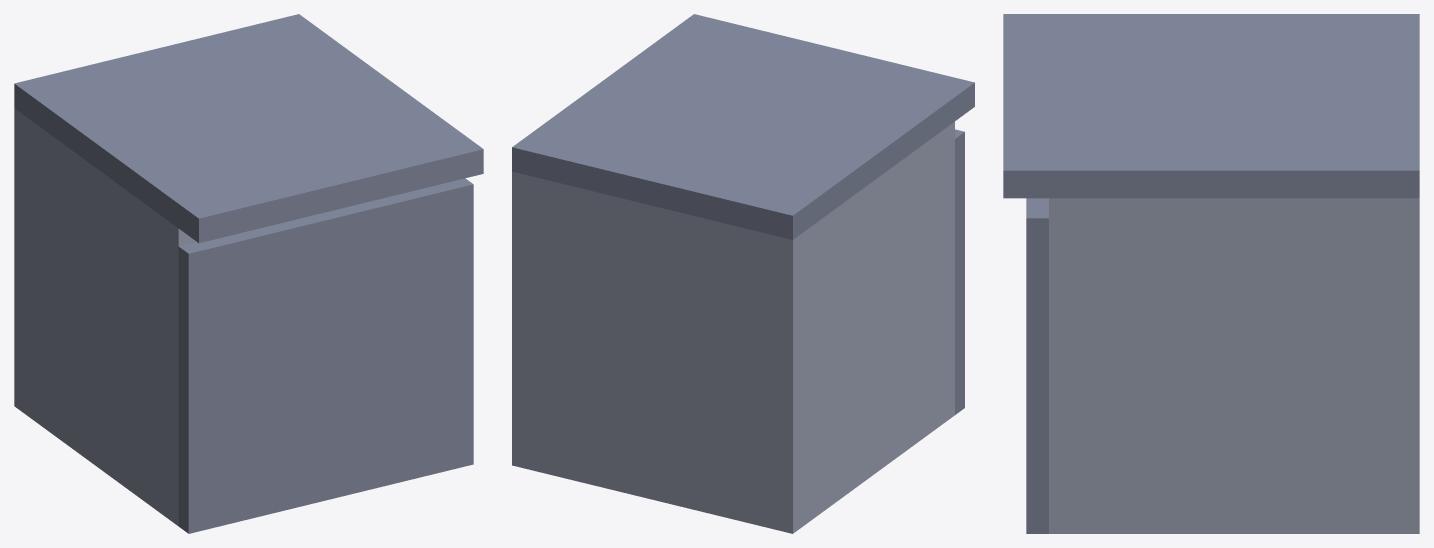
File: counter-cabinet.fbx
3 views of the same model, side by side, from view 1: azimuth 30°, elevation 25°; view 2: azimuth 150°, elevation 25°; view 3: azimuth 270°, elevation 25° (orthographic). The views are drawn at different scales.
Visible parts, largest first — view 1: counter_cabinet, R_door, L_door; view 2: counter_cabinet, R_door; view 3: counter_cabinet, L_door.
Boxes of the visible parts, bbox=[...] form: counter_cabinet: bbox=[14, 14, 483, 526]; R_door: bbox=[178, 213, 331, 533]; L_door: bbox=[323, 178, 473, 498]; counter_cabinet: bbox=[512, 14, 974, 533]; R_door: bbox=[955, 129, 964, 414]; counter_cabinet: bbox=[1003, 14, 1419, 533]; L_door: bbox=[1026, 198, 1048, 533].
Bounding box in the file's own units: 100 × 108 × 112.
